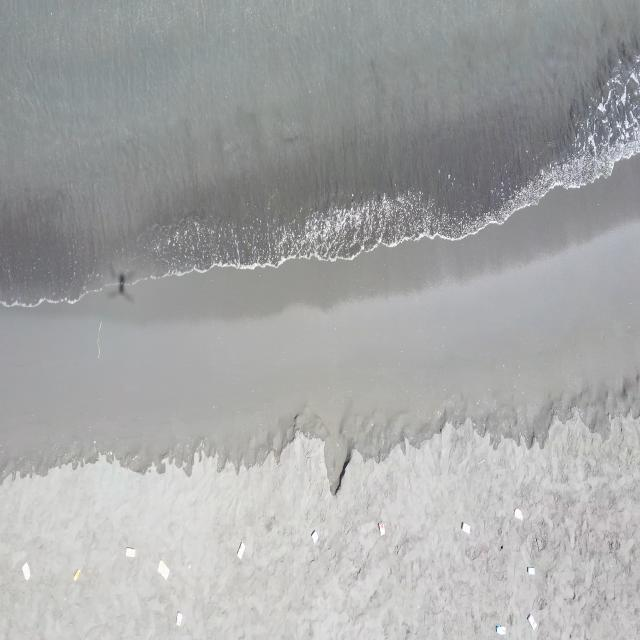Garbage: (156, 560, 167, 579), (22, 562, 30, 580), (236, 540, 244, 557), (527, 613, 535, 628), (513, 508, 523, 520), (495, 624, 504, 635), (72, 568, 80, 580), (377, 522, 384, 535), (124, 547, 134, 556), (460, 522, 469, 532), (312, 529, 318, 543), (176, 611, 181, 626), (527, 566, 535, 573)
